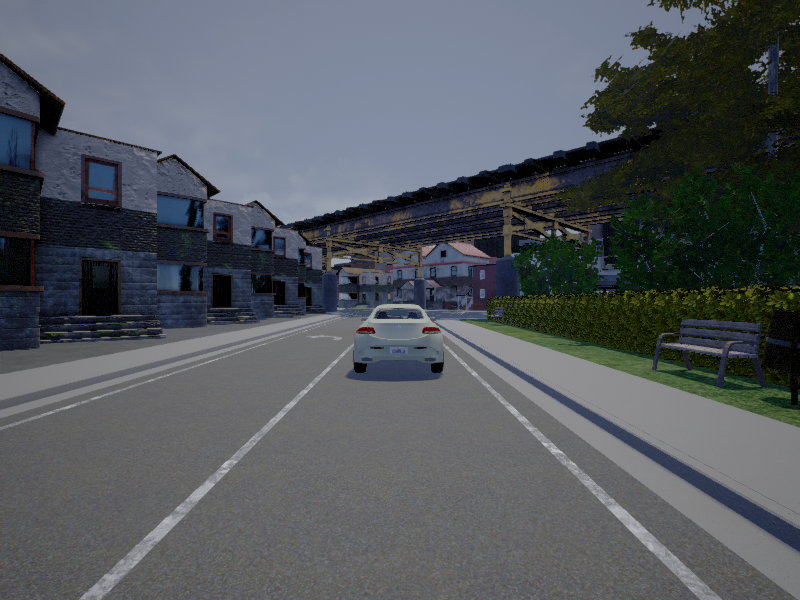Benign: (351, 304, 448, 375)
